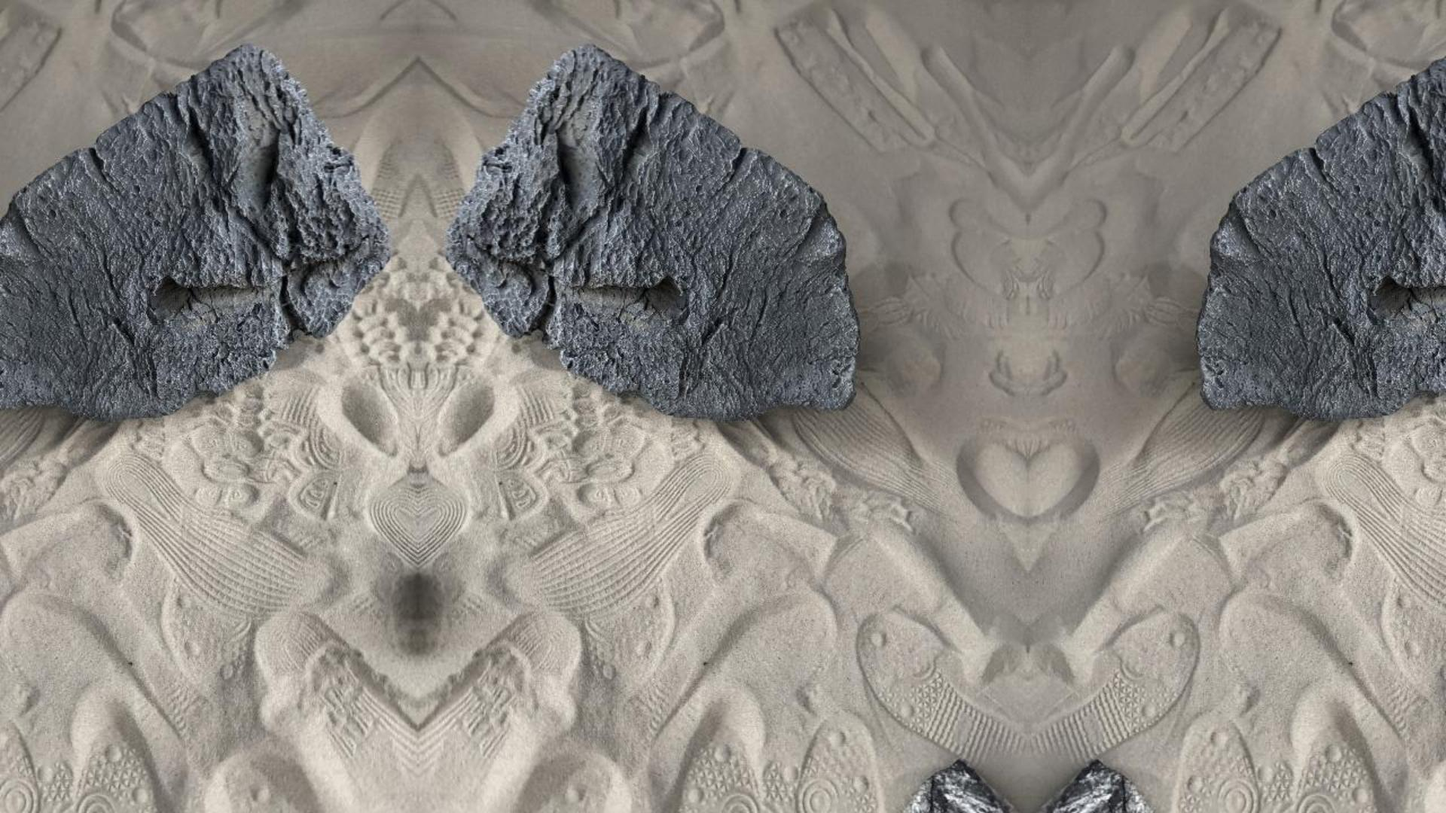rock: (446, 45, 857, 419), (0, 45, 389, 419), (1196, 59, 1445, 418), (1039, 759, 1152, 812), (904, 759, 1016, 812)
